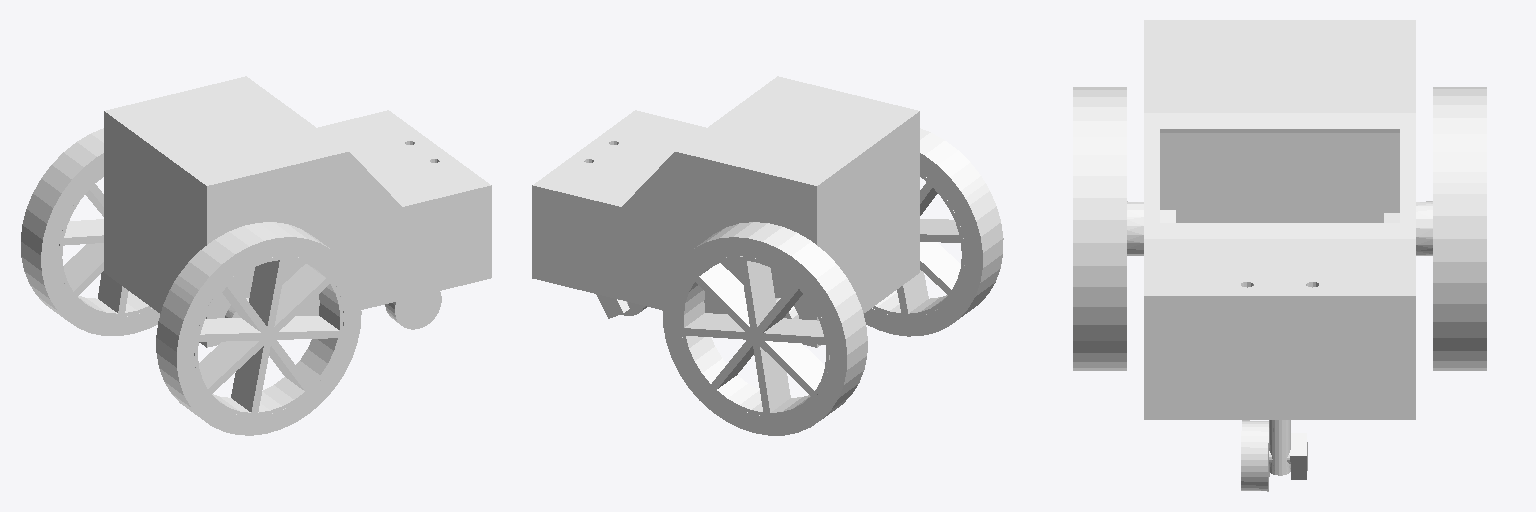
The robot description file, URDF, robot "a":
<?xml version="1.0" encoding="utf-8"?>
<!-- This URDF was automatically created by SolidWorks to URDF Exporter! Originally created by [author] ([email redacted]) 
     Commit Version: 1.5.1-0-g916b5db  Build Version: 1.5.7152.31018
     For more information, please see http://wiki.ros.org/sw_urdf_exporter -->
<robot
  name="a">
  <link
    name="base_link">
    <inertial>
      <origin
        xyz="0.026821624688902 -4.00085068042316E-05 0.0416160022003314"
        rpy="0 0 0" />
      <mass
        value="0.0528949799675124" />
      <inertia
        ixx="2.70567852420767E-05"
        ixy="-9.67279674333672E-21"
        ixz="7.03793966679837E-06"
        iyy="4.91337224403947E-05"
        iyz="3.14088025332722E-21"
        izz="5.74103078193648E-05" />
    </inertial>
    <visual>
      <origin
        xyz="0 0 0"
        rpy="0 0 0" />
      <geometry>
        <mesh
          filename="package://a/meshes/base_link.STL" />
      </geometry>
      <material
        name="">
        <color
          rgba="1 1 1 1" />
      </material>
    </visual>
    <collision>
      <origin
        xyz="0 0 0"
        rpy="0 0 0" />
      <geometry>
        <mesh
          filename="package://a/meshes/base_link.STL" />
      </geometry>
    </collision>
  </link>
  <link
    name="l_wheel">
    <inertial>
      <origin
        xyz="-6.93889390390723E-18 0 -0.0137281820853482"
        rpy="0 0 0" />
      <mass
        value="0.0139508210573943" />
      <inertia
        ixx="2.89561382218671E-06"
        ixy="-3.70576914423756E-22"
        ixz="1.22157832118606E-23"
        iyy="2.8956138221867E-06"
        iyz="-1.68722755729679E-22"
        izz="5.50325061710386E-06" />
    </inertial>
    <visual>
      <origin
        xyz="0 0 0"
        rpy="0 0 0" />
      <geometry>
        <mesh
          filename="package://a/meshes/l_wheel.STL" />
      </geometry>
      <material
        name="">
        <color
          rgba="1 1 1 1" />
      </material>
    </visual>
    <collision>
      <origin
        xyz="0 0 0"
        rpy="0 0 0" />
      <geometry>
        <mesh
          filename="package://a/meshes/l_wheel.STL" />
      </geometry>
    </collision>
  </link>
  <joint
    name="l_wh"
    type="continuous">
    <origin
      xyz="0 -0.01904 0.026"
      rpy="-1.5708 -1.3685 0" />
    <parent
      link="base_link" />
    <child
      link="l_wheel" />
    <axis
      xyz="0 0 1" />
  </joint>
  <link
    name="r_wheel">
    <inertial>
      <origin
        xyz="-3.81639164714898E-17 2.77555756156289E-17 -0.0137281820853482"
        rpy="0 0 0" />
      <mass
        value="0.0139508210573943" />
      <inertia
        ixx="2.8956138221867E-06"
        ixy="5.29395592033938E-22"
        ixz="-2.52469524042589E-22"
        iyy="2.8956138221867E-06"
        iyz="-2.67527204160234E-22"
        izz="5.50325061710386E-06" />
    </inertial>
    <visual>
      <origin
        xyz="0 0 0"
        rpy="0 0 0" />
      <geometry>
        <mesh
          filename="package://a/meshes/r_wheel.STL" />
      </geometry>
      <material
        name="">
        <color
          rgba="1 1 1 1" />
      </material>
    </visual>
    <collision>
      <origin
        xyz="0 0 0"
        rpy="0 0 0" />
      <geometry>
        <mesh
          filename="package://a/meshes/r_wheel.STL" />
      </geometry>
    </collision>
  </link>
  <joint
    name="r_wh"
    type="continuous">
    <origin
      xyz="0 0.01896 0.026"
      rpy="1.5708 -0.61766 0" />
    <parent
      link="base_link" />
    <child
      link="r_wheel" />
    <axis
      xyz="0 0 -1" />
  </joint>
  <link
    name="caster">
    <inertial>
      <origin
        xyz="3.62452395874513E-09 -0.0148173358863486 3.3551936090559E-09"
        rpy="0 0 0" />
      <mass
        value="0.000511507784206821" />
      <inertia
        ixx="2.52912052371912E-08"
        ixy="-1.49972092281477E-14"
        ixz="-1.4717066777345E-14"
        iyy="2.3449904681603E-09"
        iyz="-1.63975408848506E-14"
        izz="2.4420663846452E-08" />
    </inertial>
    <visual>
      <origin
        xyz="0 0 0"
        rpy="0 0 0" />
      <geometry>
        <mesh
          filename="package://a/meshes/caster.STL" />
      </geometry>
      <material
        name="">
        <color
          rgba="1 1 1 1" />
      </material>
    </visual>
    <collision>
      <origin
        xyz="0 0 0"
        rpy="0 0 0" />
      <geometry>
        <mesh
          filename="package://a/meshes/caster.STL" />
      </geometry>
    </collision>
  </link>
  <joint
    name="ca_a"
    type="continuous">
    <origin
      xyz="0.059996 -4.0009E-05 0.005"
      rpy="-1.5708 0 3.1173" />
    <parent
      link="base_link" />
    <child
      link="caster" />
    <axis
      xyz="0 1 0" />
  </joint>
  <link
    name="ca_in">
    <inertial>
      <origin
        xyz="1.73472347597681E-18 -3.46944695195361E-18 -0.0031609353514942"
        rpy="0 0 0" />
      <mass
        value="0.00115294881037348" />
      <inertia
        ixx="2.21276235145309E-08"
        ixy="-2.17983094040463E-24"
        ixz="-4.65289094561078E-25"
        iyy="2.26814235145309E-08"
        iyz="-3.07607790293157E-24"
        izz="2.12171525368821E-08" />
    </inertial>
    <visual>
      <origin
        xyz="0 0 0"
        rpy="0 0 0" />
      <geometry>
        <mesh
          filename="package://a/meshes/ca_in.STL" />
      </geometry>
      <material
        name="">
        <color
          rgba="1 1 1 1" />
      </material>
    </visual>
    <collision>
      <origin
        xyz="0 0 0"
        rpy="0 0 0" />
      <geometry>
        <mesh
          filename="package://a/meshes/ca_in.STL" />
      </geometry>
    </collision>
  </link>
  <joint
    name="ca_wh"
    type="continuous">
    <origin
      xyz="0 -0.003 0"
      rpy="-3.1416 0 1.0249" />
    <parent
      link="caster" />
    <child
      link="ca_in" />
    <axis
      xyz="0 0 -1" />
  </joint>
    <gazebo>
    <plugin filename="libgazebo_ros_diff_drive.so" name="differential_drive_controller">
      <alwaysOn>true</alwaysOn>
      <updateRate>20</updateRate>
      <leftJoint>r_wh</leftJoint>
      <rightJoint>l_wh</rightJoint>
      <wheelSeparation>0.4</wheelSeparation>
      <wheelDiameter>0.2</wheelDiameter>
      <torque>0.1</torque>
      <commandTopic>cmd_vel</commandTopic>
      <odometryTopic>odom</odometryTopic>
      <odometryFrame>oodm</odometryFrame>
      <robotBaseFrame>base_link</robotBaseFrame>
    </plugin>
  </gazebo>
</robot>

--- Render facts (derived) ---
3 views of the same robot in one strip: view 1: azimuth 30°, elevation 25°; view 2: azimuth 150°, elevation 25°; view 3: azimuth 270°, elevation 25° (orthographic).
Model a with 5 links and 4 joints (4 continuous), rooted at base_link, posed every joint at zero.
Visible links, largest first — view 1: base_link, l_wheel, r_wheel, ca_in; view 2: base_link, r_wheel, l_wheel, ca_in; view 3: base_link, l_wheel, r_wheel, ca_in, caster.
Boxes of the visible links, <box> form: base_link: <box>104,76,491,347</box>; l_wheel: <box>156,222,361,435</box>; r_wheel: <box>21,128,159,335</box>; ca_in: <box>385,291,441,329</box>; base_link: <box>532,76,919,347</box>; r_wheel: <box>662,222,867,435</box>; l_wheel: <box>864,128,1003,336</box>; ca_in: <box>596,294,646,318</box>; base_link: <box>1144,20,1415,419</box>; l_wheel: <box>1073,87,1175,370</box>; r_wheel: <box>1384,87,1486,370</box>; ca_in: <box>1241,420,1307,491</box>; caster: <box>1269,420,1290,475</box>.
Size in the robot's own frame: 0.096 by 0.076 by 0.0634 metres.
Meshes: 5 distinct files referenced, 5 mesh visuals loaded (5 binary STL).
